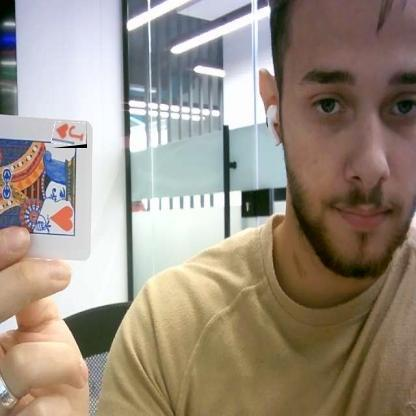JH: (52, 122, 87, 148)
